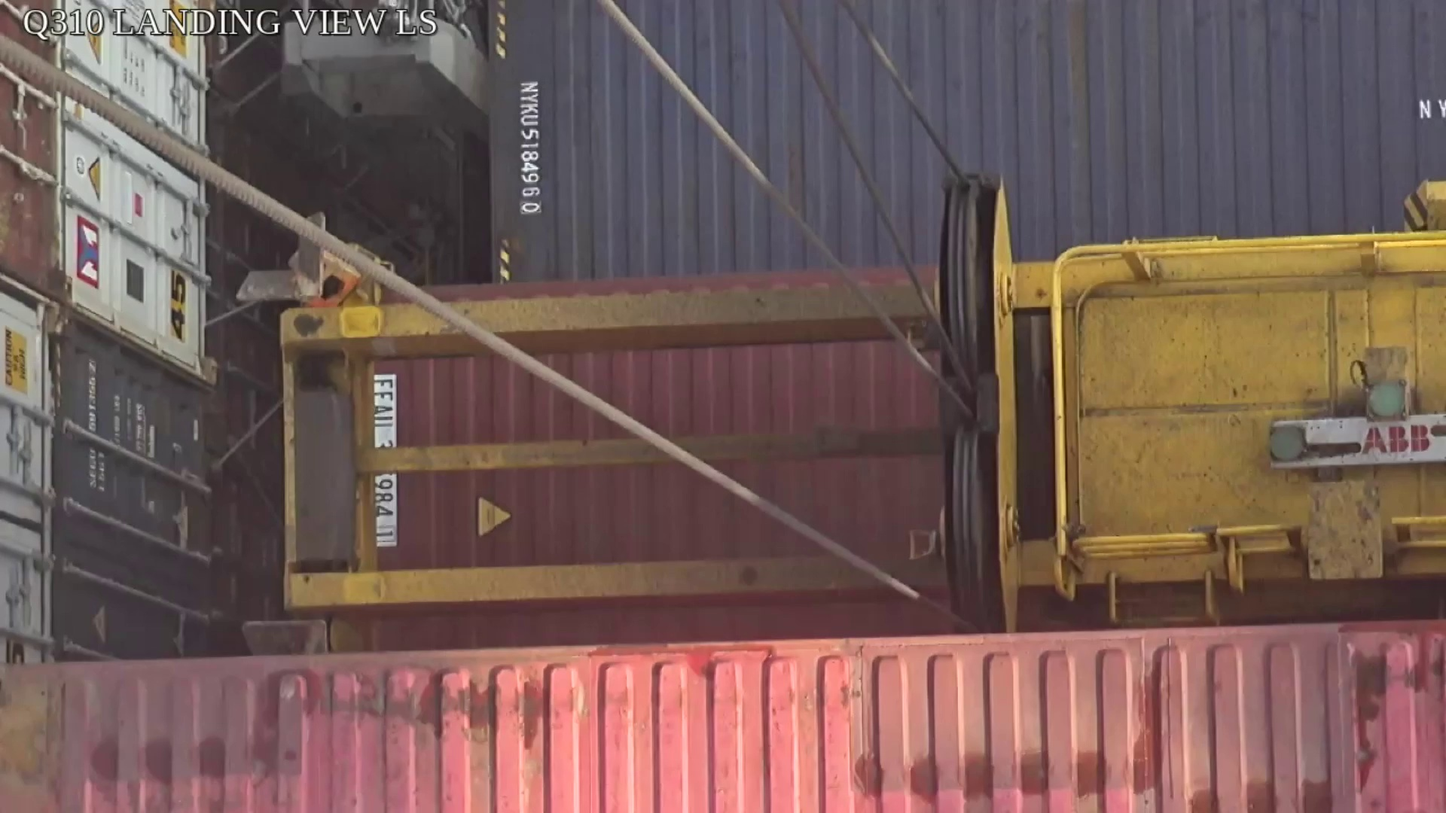aa: (938, 173, 1023, 636)
